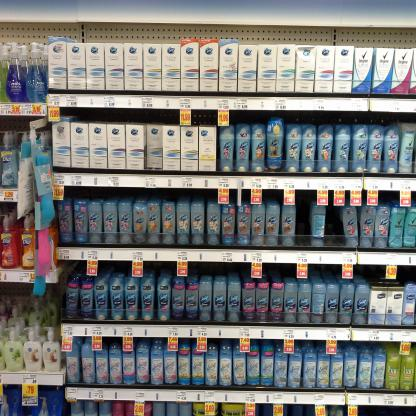Void: (296, 191, 310, 242), (327, 206, 340, 243)
